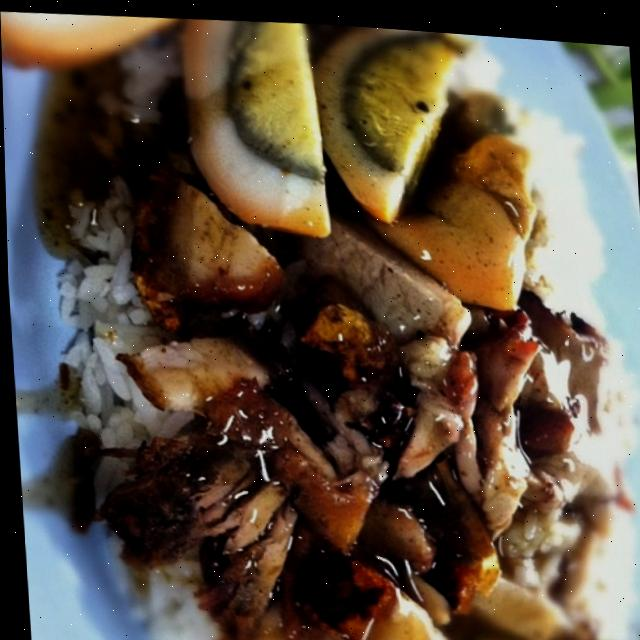猪肉菜式: (23, 14, 640, 640)
